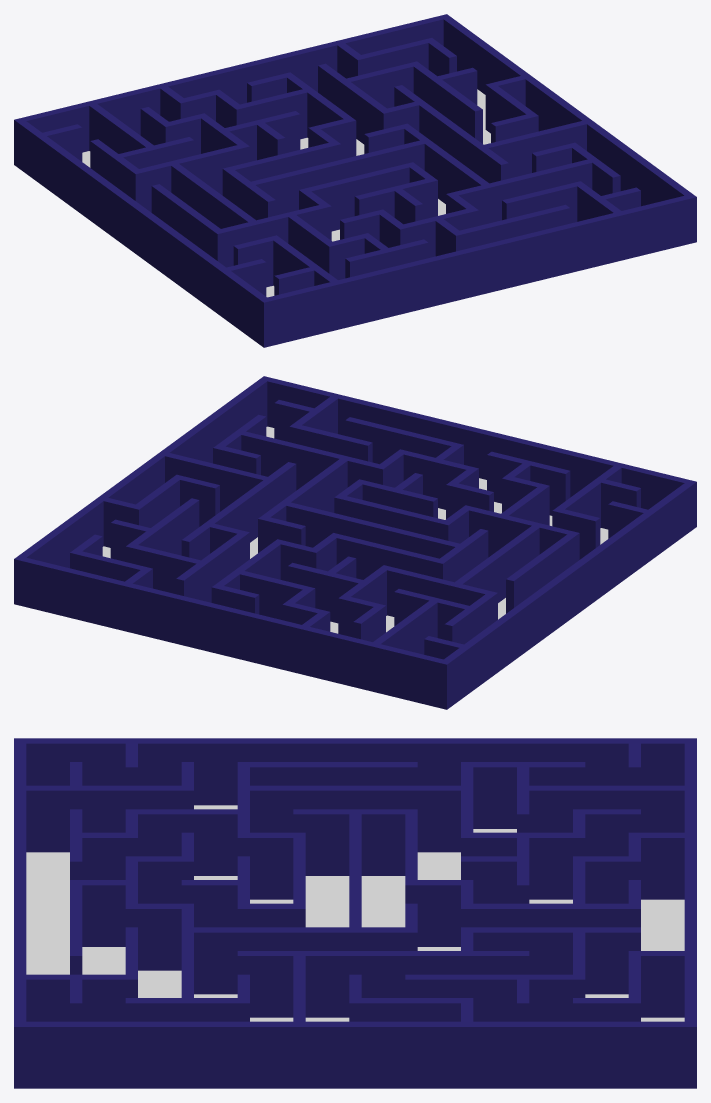
File: Level29Ground.FBX
3 views of the same model, one above another, from view 1: azimuth 30°, elevation 25°; view 2: azimuth 150°, elevation 25°; view 3: azimuth 270°, elevation 25° (orthographic). The views are drawn at different scales.
Visible parts, largest first — view 1: pPlane2; view 2: pPlane2; view 3: pPlane2.
Boxes of the visible parts, box(x1,y1,x2,y2) form: pPlane2: box(14, 14, 696, 347); pPlane2: box(14, 376, 696, 709); pPlane2: box(14, 738, 696, 1088).
Bounding box in the file's own units: 281 × 28 × 281.
